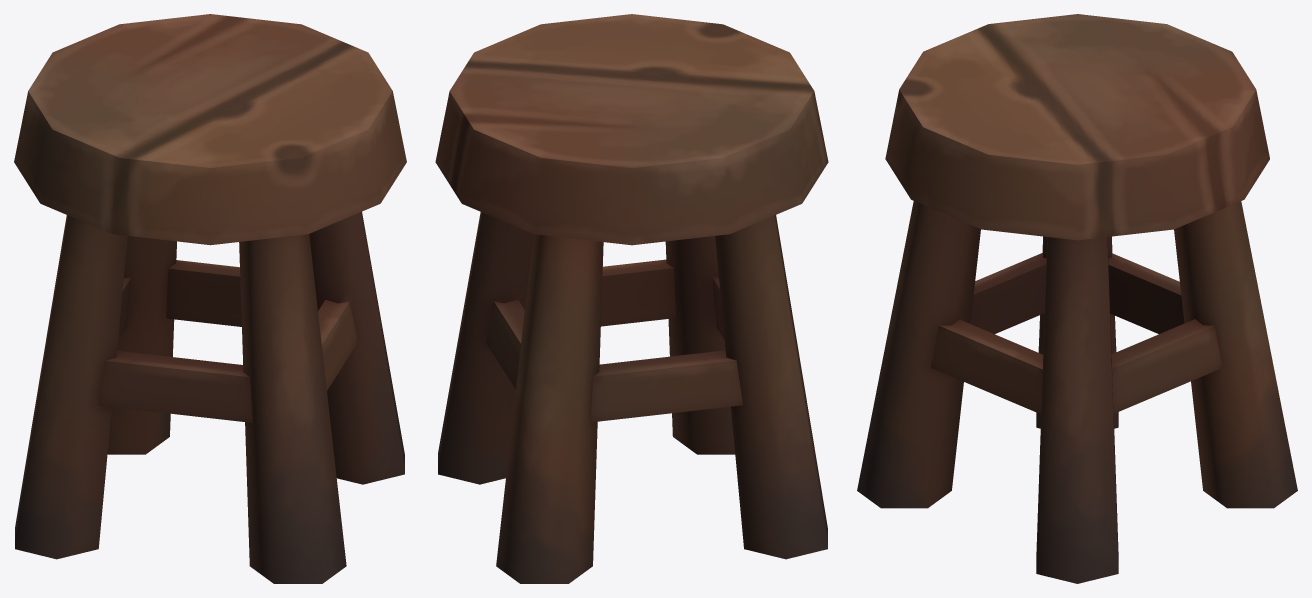
Rendered from stool.fbx.
3 views of the same model, side by side, from view 1: azimuth 30°, elevation 25°; view 2: azimuth 150°, elevation 25°; view 3: azimuth 270°, elevation 25° (orthographic). The views are drawn at different scales.
Visible parts, largest first — view 1: stool; view 2: stool; view 3: stool.
Boxes of the visible parts, x1,y1,x2,y2 form: stool: (14, 14, 406, 583); stool: (435, 14, 828, 583); stool: (857, 14, 1297, 583).
Bounding box in the file's own units: 61.12 × 61.44 × 61.12.
